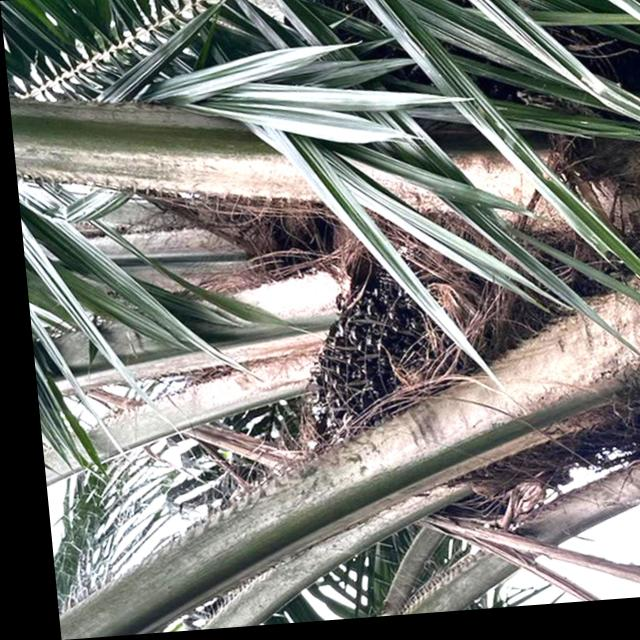unripe: (284, 262, 442, 458)
